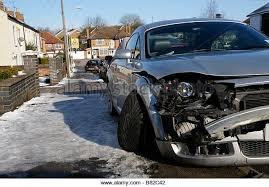Broken-glass: (167, 79, 206, 102)
Dent: (134, 70, 249, 167)
